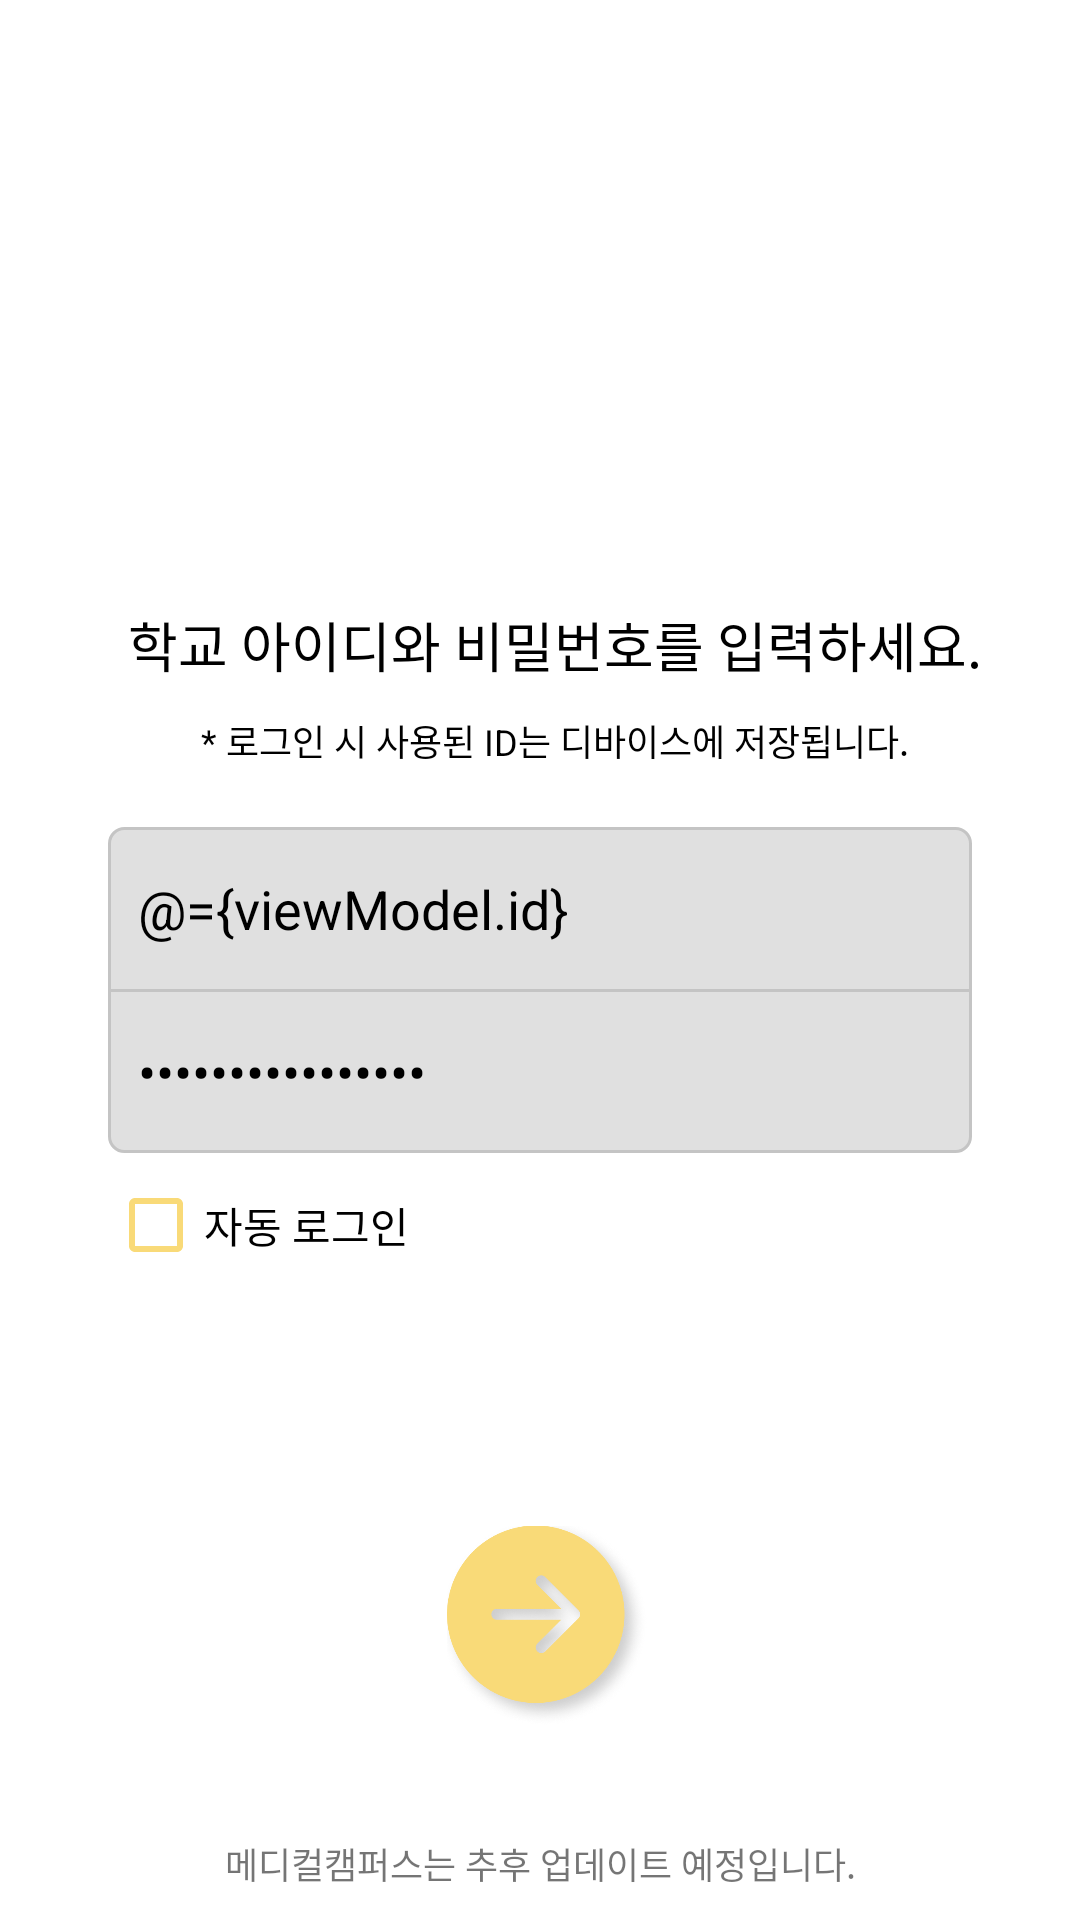

Where icons sit on this 1080*1920 app screen, as (x1=x1, y1=y1, x2=x2, y2=y2):
login next: (x1=447, y1=1526, x2=632, y2=1711)
